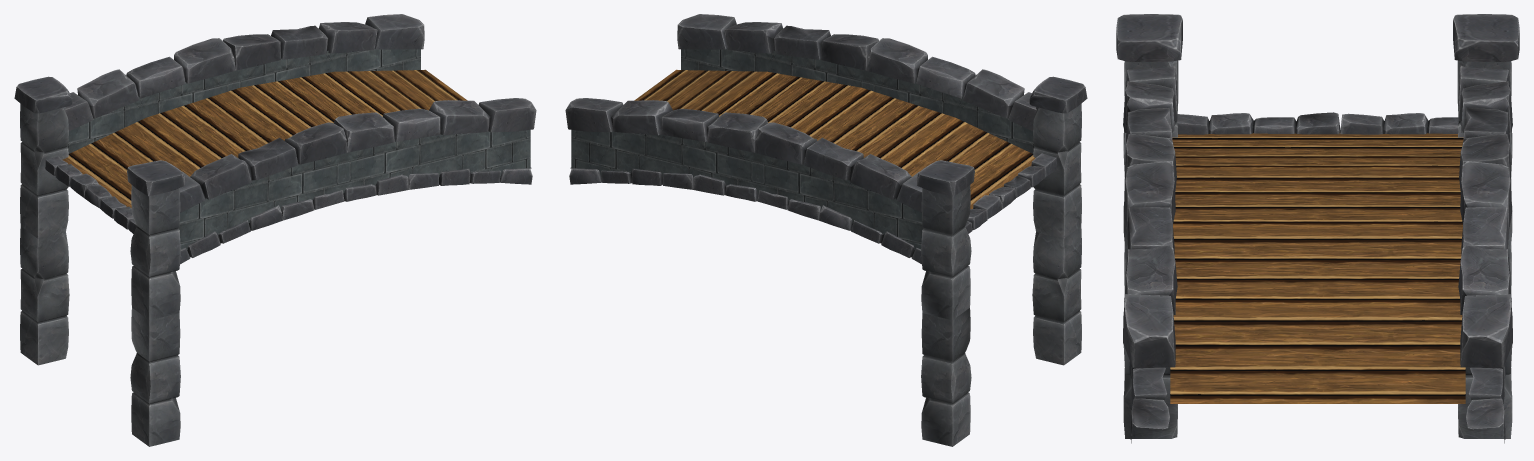
The model's file is StoneBridge02.FBX.
3 views of the same model, side by side, from view 1: azimuth 30°, elevation 25°; view 2: azimuth 150°, elevation 25°; view 3: azimuth 270°, elevation 25° (orthographic). The views are drawn at different scales.
Visible parts, largest first — view 1: StoneBridge02; view 2: StoneBridge02; view 3: StoneBridge02.
Part boxes in pixels (box(x1,y1,x2,y2)): StoneBridge02: box(14, 14, 536, 446); StoneBridge02: box(565, 14, 1087, 446); StoneBridge02: box(1116, 14, 1519, 443).
Bounding box in the file's own units: 14.96 × 8.84 × 9.72.
